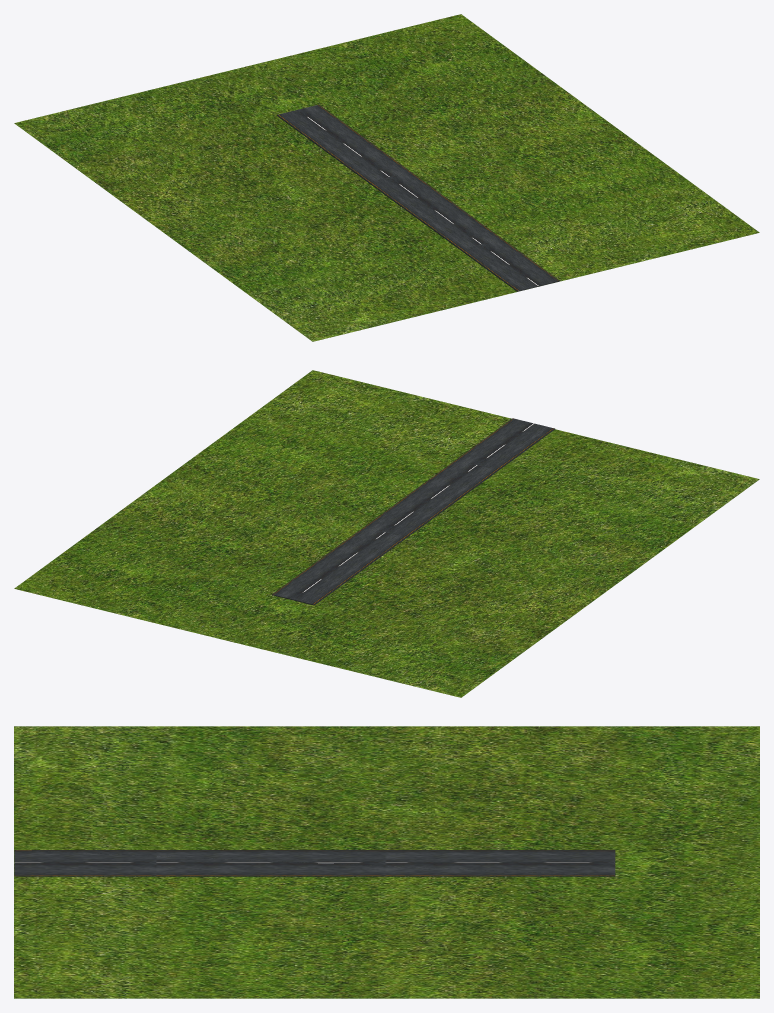
3 renders of one model, top to bottom at view 1: azimuth 30°, elevation 25°; view 2: azimuth 150°, elevation 25°; view 3: azimuth 270°, elevation 25°, orthographic. The views are drawn at different scales.
Parts seen in each view (by area): view 1: Grass, Road; view 2: Grass, Road; view 3: Grass, Road.
Boxes of the visible parts, x1,y1,x2,y2 form: Grass: (14, 14, 759, 341); Road: (276, 104, 559, 291); Grass: (14, 370, 759, 697); Road: (272, 418, 554, 605); Grass: (14, 726, 759, 998); Road: (14, 850, 615, 876).
Size of the model in its own units: 342 by 0.5822 by 396.
2 materials, 2 textured.
